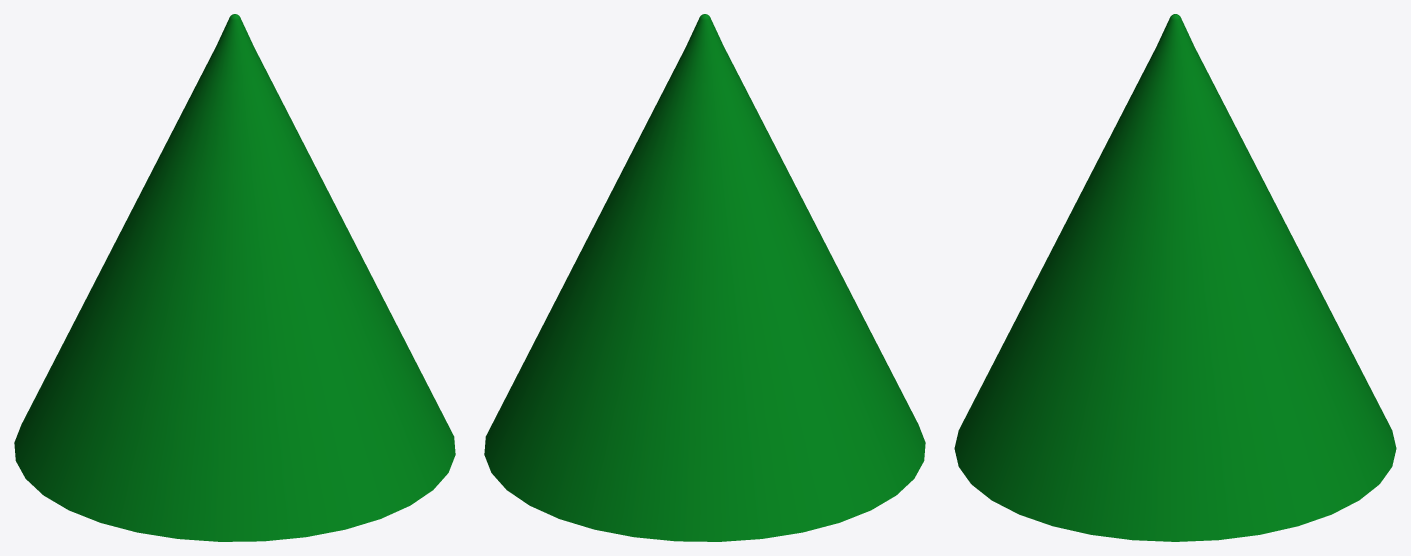
The model's file is Building block-Cone.fbx.
3 renders of one model, left to right at view 1: azimuth 30°, elevation 25°; view 2: azimuth 150°, elevation 25°; view 3: azimuth 270°, elevation 25°, orthographic.
Parts seen in each view (by area): view 1: Building block-Cone; view 2: Building block-Cone; view 3: Building block-Cone.
Boxes of the visible parts, bbox=[...] form: Building block-Cone: bbox=[14, 14, 455, 541]; Building block-Cone: bbox=[484, 14, 925, 541]; Building block-Cone: bbox=[954, 14, 1396, 541].
Size of the model in its own units: 200 by 217 by 200.
